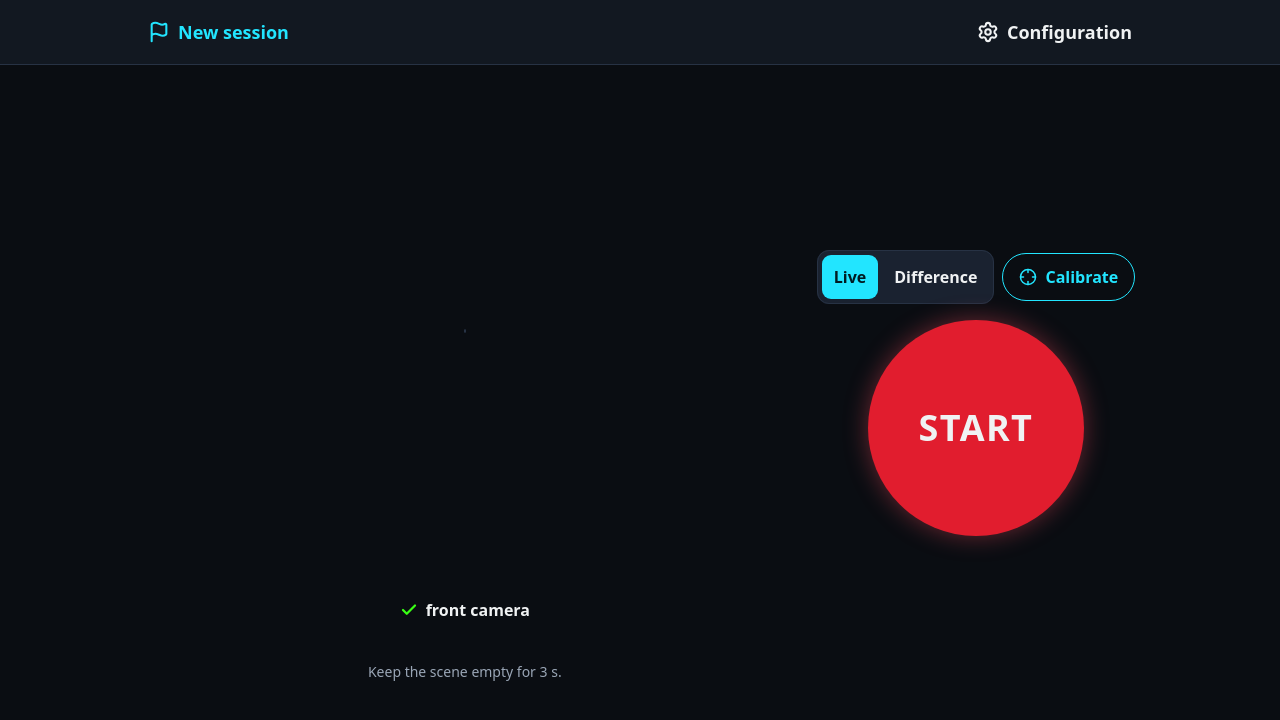
Test: Get Ready preview and Calibrate › a failed run (no usable frames) changes nothing
Click the button "Calibrate" at x=1069, y=276, box top-left (1002, 252), bottom-right (1135, 300)
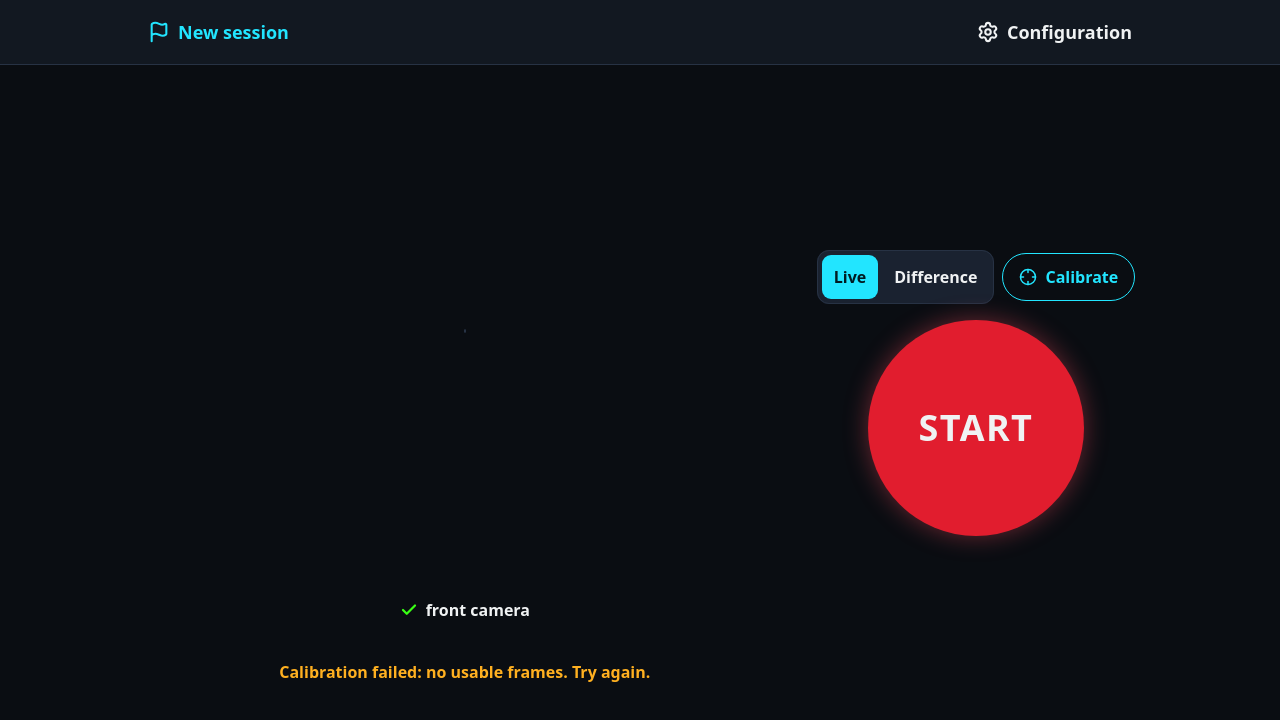
Check: the text "Calibration failed: no usable frames. Try again." is shown, box top-left (279, 661), bottom-right (650, 683)
